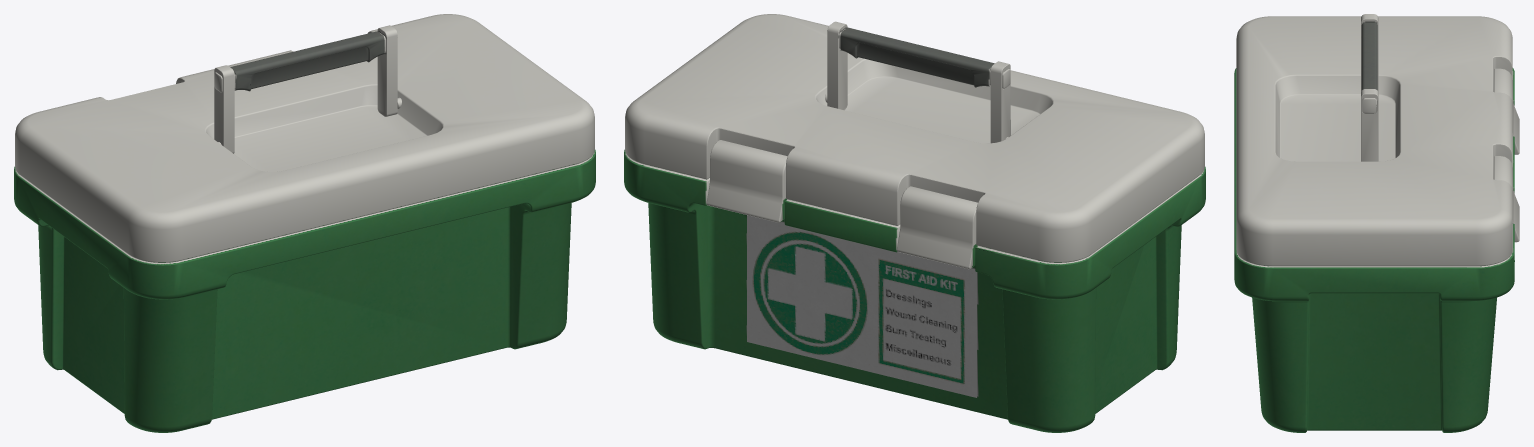
File: safety_firstaidkit_box_plastic_a01.glb
The picture shows the model from 3 angles, left to right: view 1: azimuth 30°, elevation 25°; view 2: azimuth 150°, elevation 25°; view 3: azimuth 270°, elevation 25°; orthographic projection. The views are drawn at different scales.
Visible parts, largest first — view 1: safety_firstaidkit_box_plastic_a01_lod1; view 2: safety_firstaidkit_box_plastic_a01_lod1; view 3: safety_firstaidkit_box_plastic_a01_lod1.
Part boxes in pixels (x1,y1,x2,y2): safety_firstaidkit_box_plastic_a01_lod1: [14, 14, 595, 432]; safety_firstaidkit_box_plastic_a01_lod1: [624, 14, 1205, 432]; safety_firstaidkit_box_plastic_a01_lod1: [1234, 14, 1519, 432].
Size of the model in its own units: 0.4143 by 0.2564 by 0.2348.
1 material, 1 textured.
